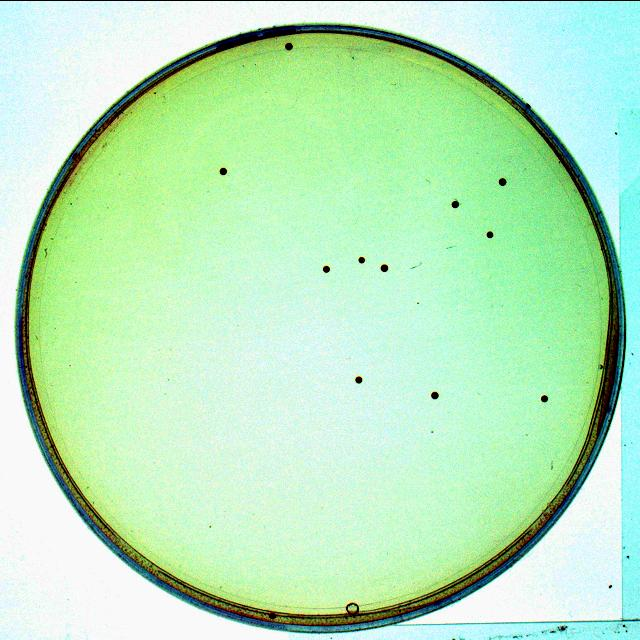colony: (451, 200, 459, 208), (431, 391, 439, 398), (381, 264, 388, 271), (499, 178, 506, 185), (355, 375, 362, 382), (322, 265, 330, 271), (285, 42, 292, 48), (541, 395, 548, 401), (269, 612, 276, 618), (220, 168, 226, 174), (359, 256, 365, 262), (488, 231, 492, 236)
